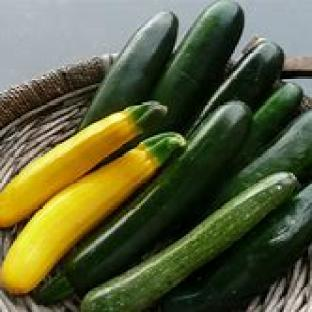Zucchini: (36, 103, 251, 303), (0, 134, 186, 294), (81, 174, 296, 311), (0, 101, 165, 227), (164, 186, 311, 311), (79, 13, 178, 128), (215, 111, 311, 206), (192, 40, 283, 128), (235, 84, 302, 168)
